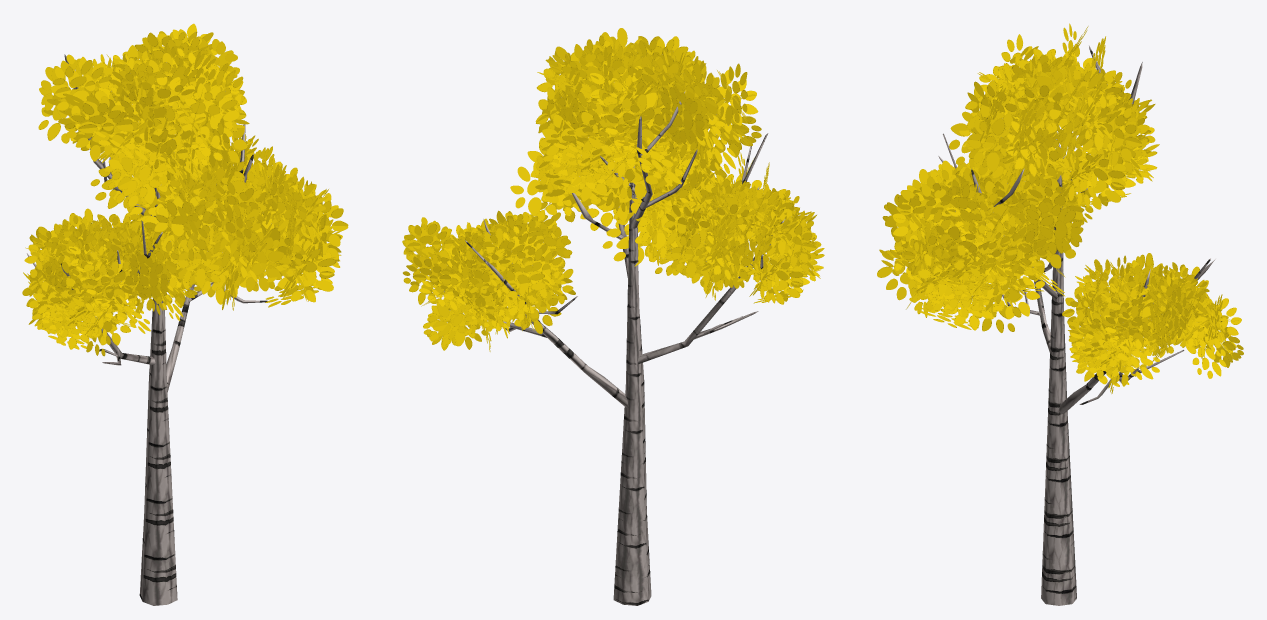
File: BirchTree_5.glb
The picture shows the model from 3 angles, left to right: view 1: azimuth 30°, elevation 25°; view 2: azimuth 150°, elevation 25°; view 3: azimuth 270°, elevation 25°; orthographic projection. The views are drawn at different scales.
Bounding box in the file's own units: 3.58 × 5.52 × 3.51.
Materials: 2 (2 with a texture image).
